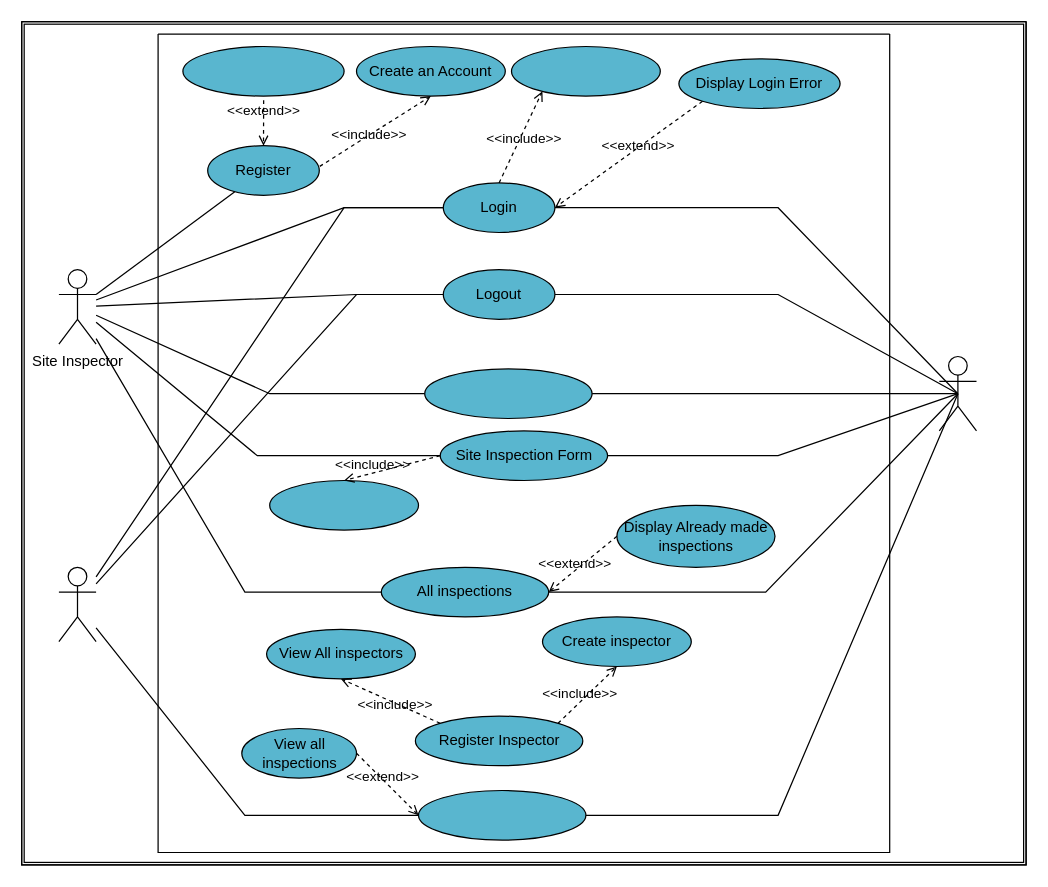
This 1048x887 diagram has some shape labels left out. The shapes that lost their labels are listed below. From the top down, each one's centre as x and y in pixels, then its label:
At [263,70]: "Display Register Error".
At [585,70]: "Verify Credentials".
At [507,393]: "Site Inspection Dashboard".
At [957,393]: "Feedback Provider".
At [343,504]: "Create inspection".
At [77,604]: "Manager".
At [501,814]: "All inspection".
